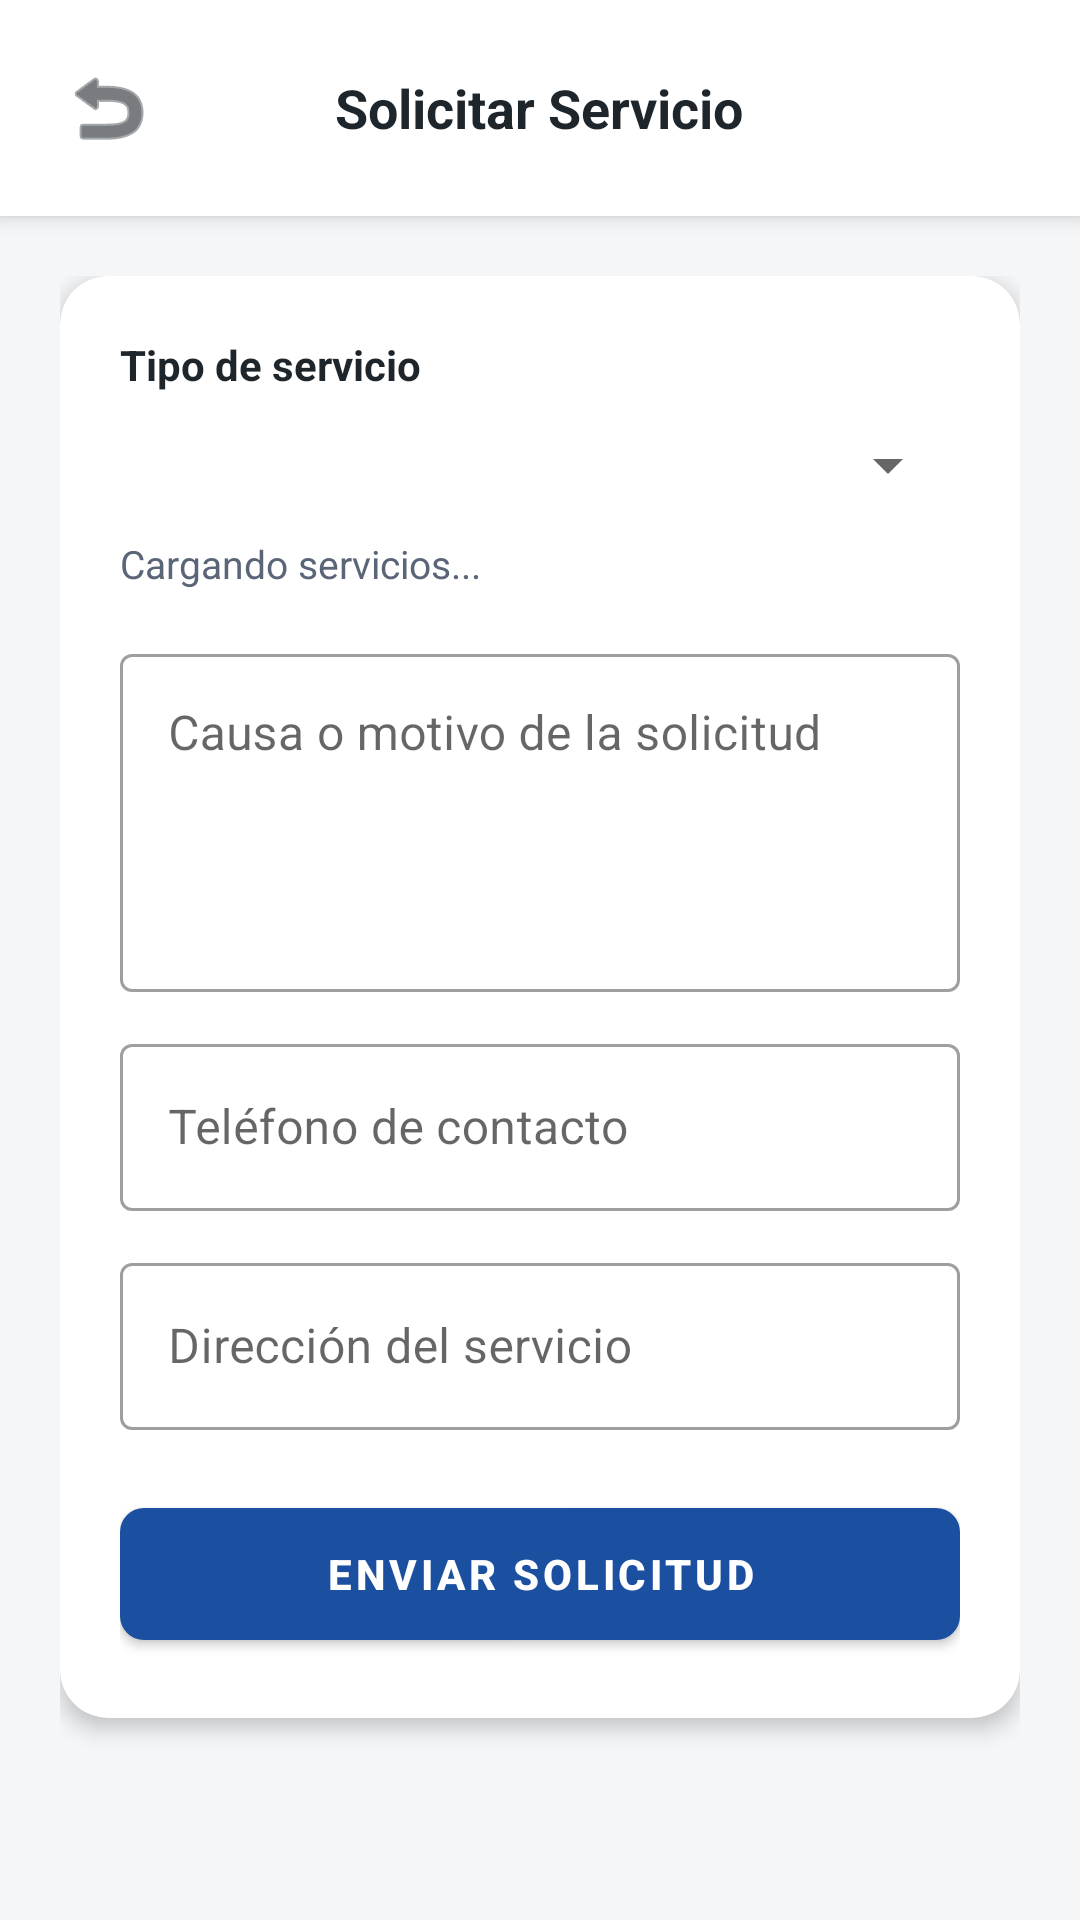

Named icons in this screenshot (1080*1920) and their bounding boxes, [left=x1, top=y1, right=x2, bottom=y2]:
Volver: [left=75, top=77, right=144, bottom=140]
